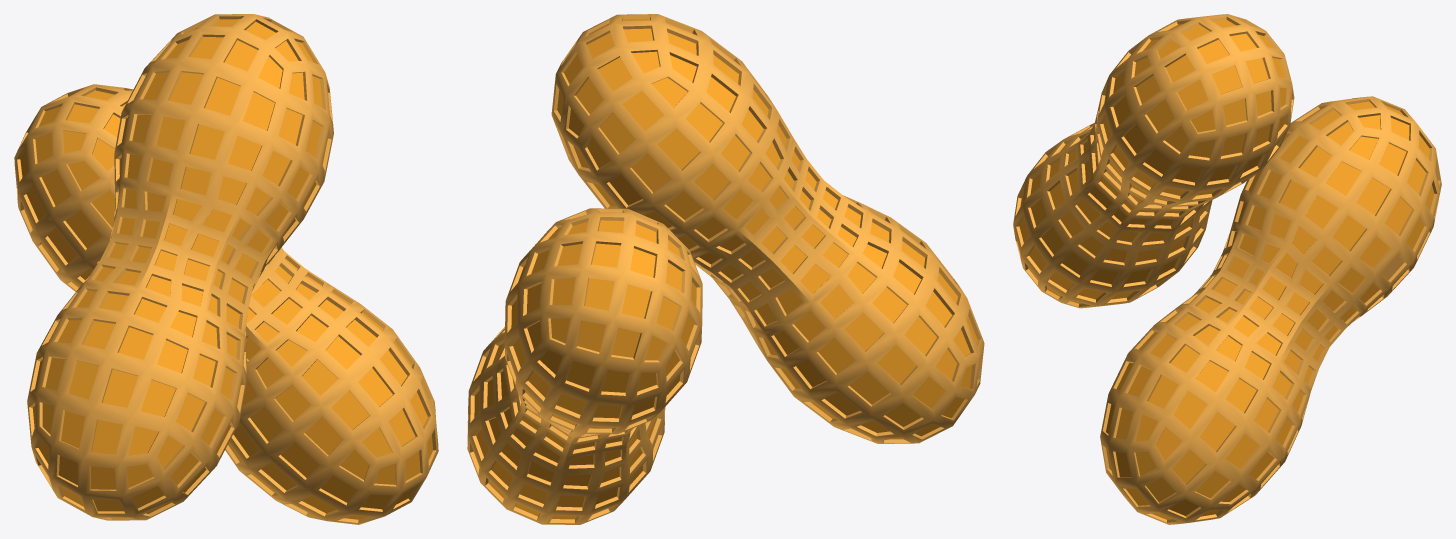
File: peanuts.glb
The picture shows the model from 3 angles, left to right: view 1: azimuth 30°, elevation 25°; view 2: azimuth 150°, elevation 25°; view 3: azimuth 270°, elevation 25°; orthographic projection. The views are drawn at different scales.
Parts seen in each view (by area): view 1: Cube.348; view 2: Cube.348; view 3: Cube.348.
Boxes of the visible parts, <box> form: Cube.348: <box>14,14,438,524</box>; Cube.348: <box>467,14,984,524</box>; Cube.348: <box>1013,14,1441,524</box>.
Size of the model in its own units: 2.07 by 2.34 by 2.01.
Materials: 1 (1 with a texture image).
